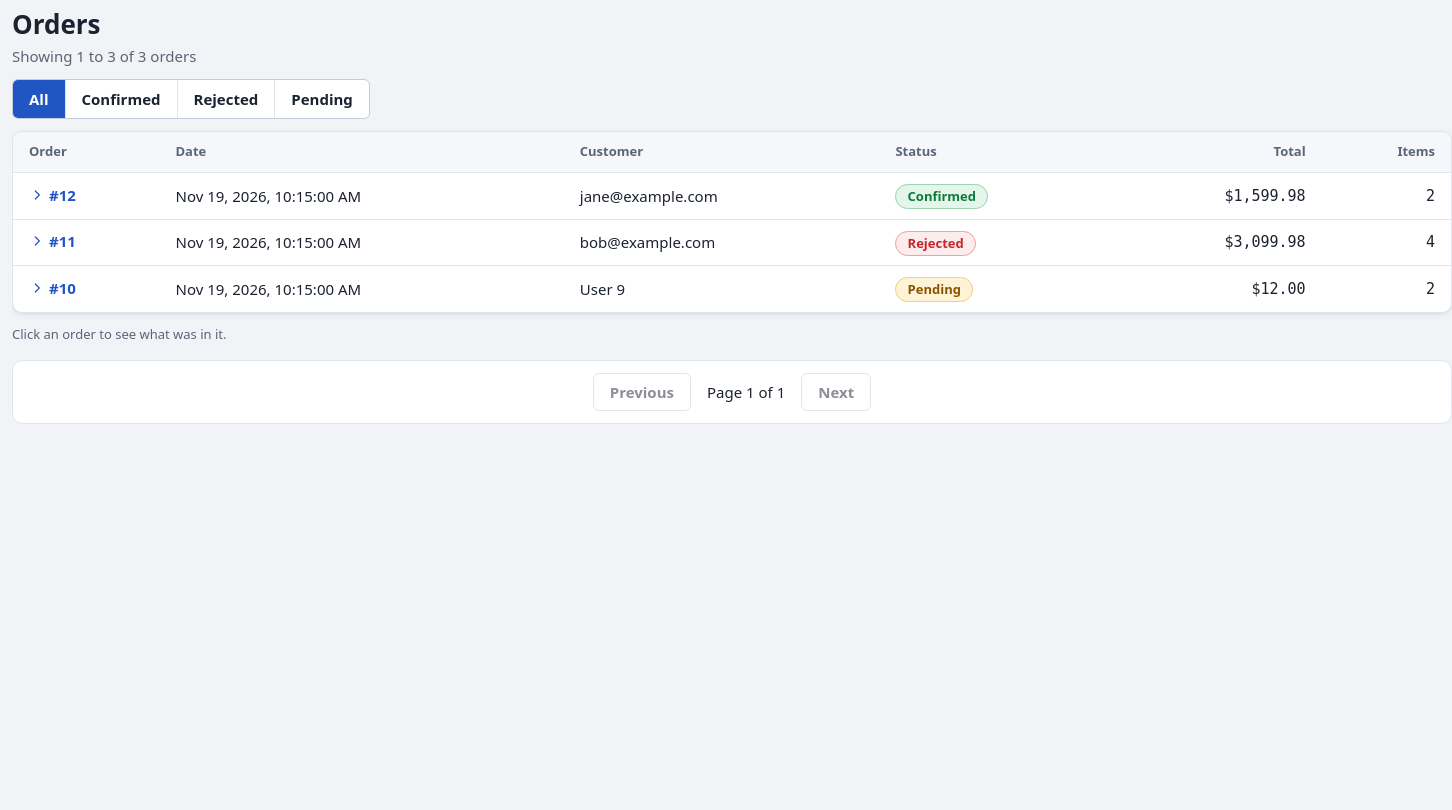
Admin orders page › opening an order › shows the lines and the reject reason when a row is clicked, and hides them on a second click
Check: the text "jane@example.com" is shown, box [564,173,879,219]
Check: the text "Beta Laptop" is not shown
Click the text "bob@example.com" at (732, 243), box [13,219,1451,266]
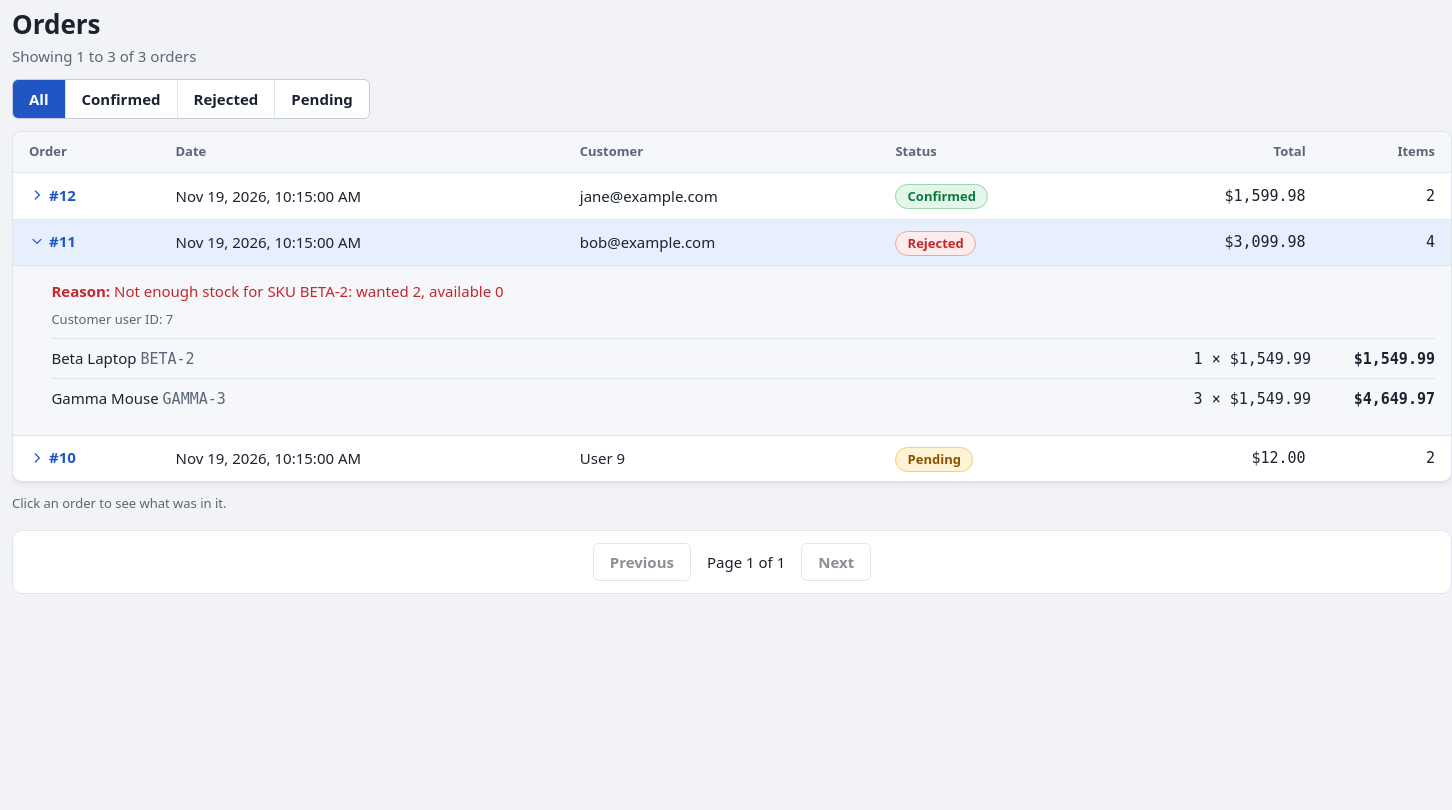
Check: the text "Beta Laptop" is shown, box [51,348,137,368]
Check: the text "BETA-2" is shown, box [140,350,195,368]
Check: the text "Gamma Mouse" is shown, box [51,388,159,408]
Click the text "bob@example.com" at (732, 243), box [13,219,1451,266]
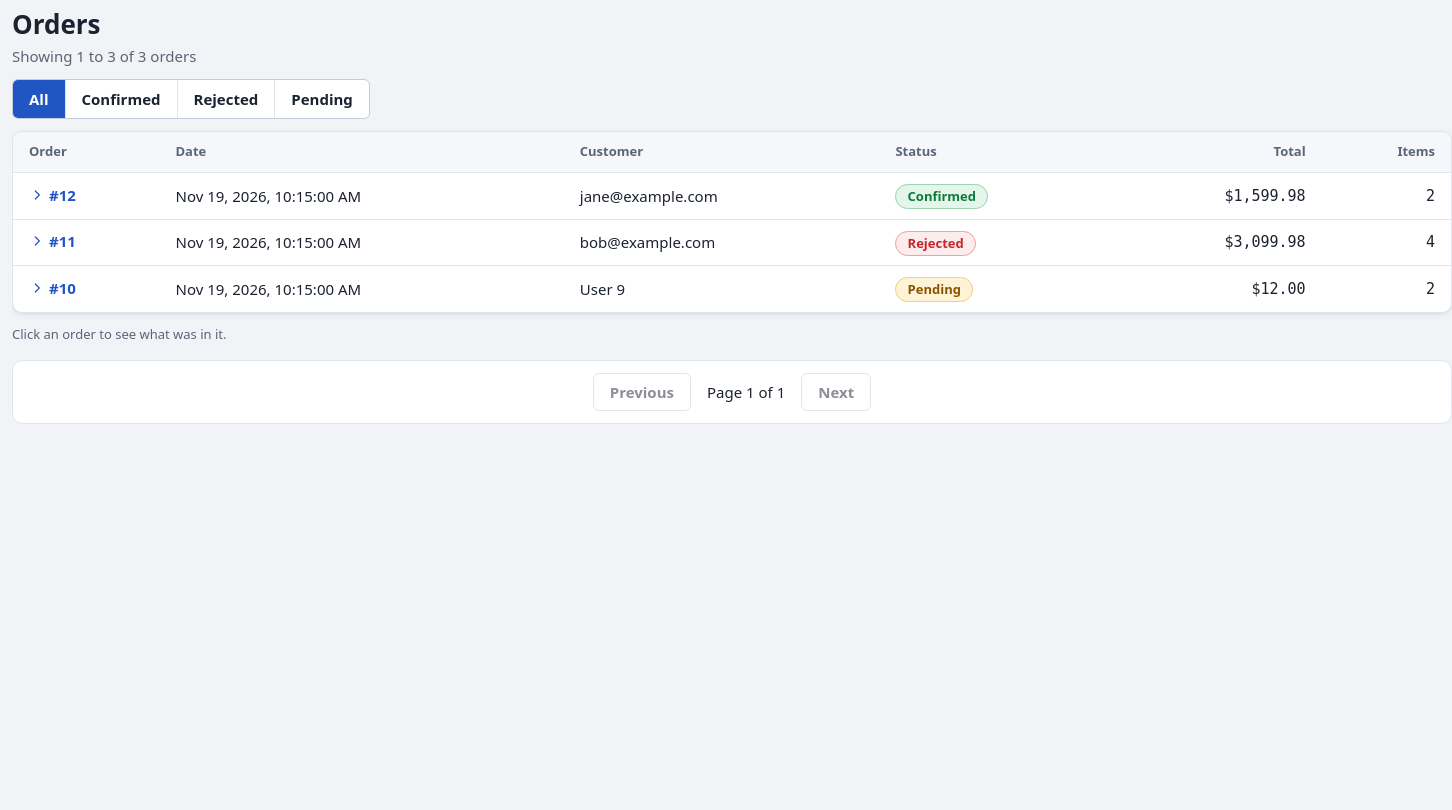
Check: the button named "Order #11" is collapsed, box [29,230,76,253]
